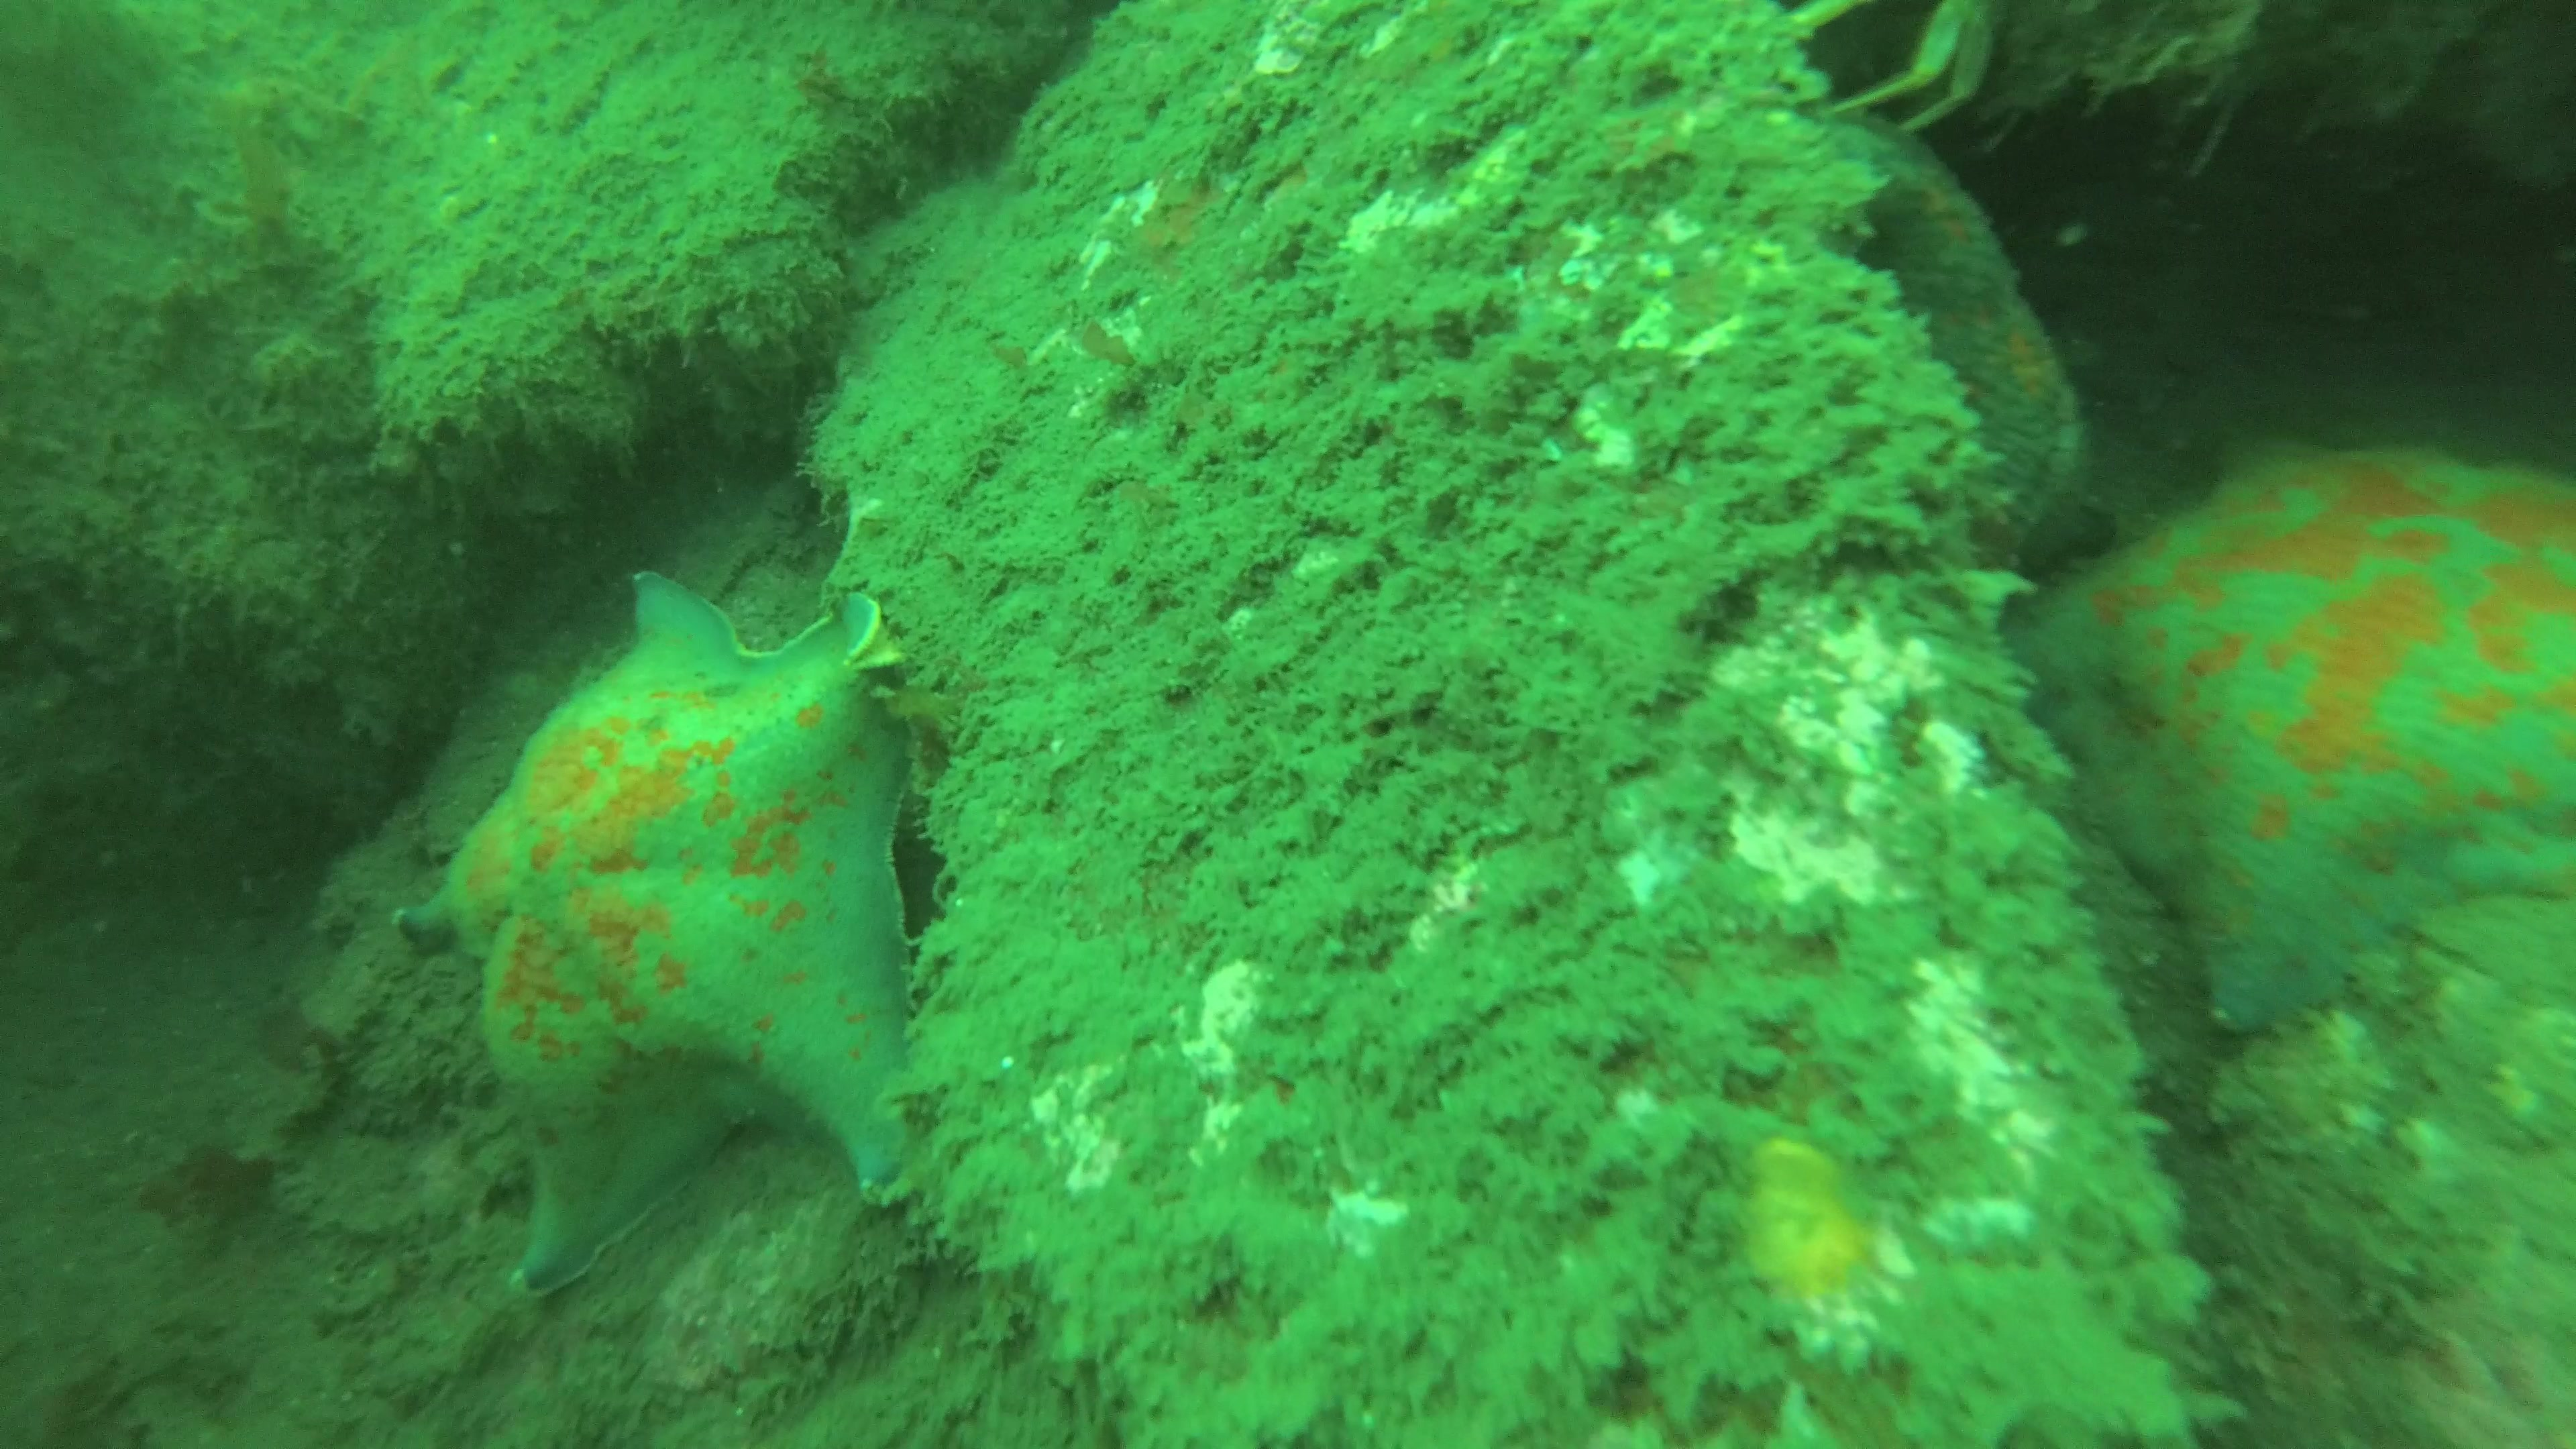starfish: (395, 566, 931, 1300), (2005, 432, 2576, 1030)
